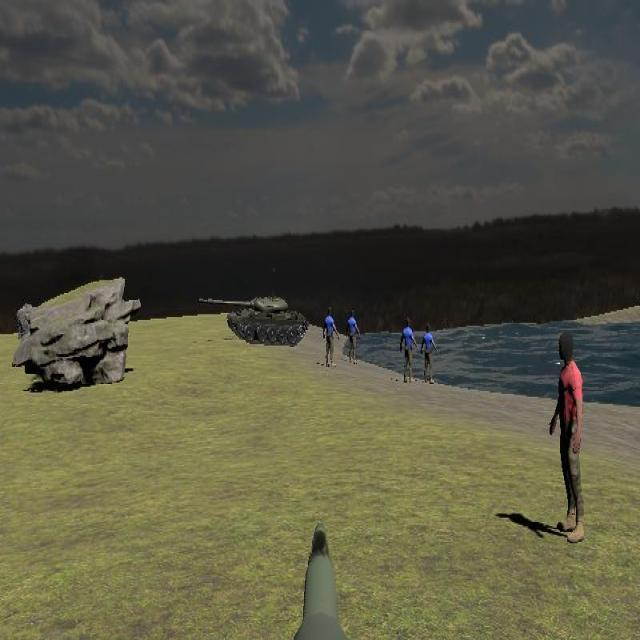Human: (550, 329, 586, 538), (400, 317, 419, 383), (420, 322, 438, 384), (323, 306, 339, 369), (346, 308, 360, 365)
Tank: (198, 294, 308, 348)
